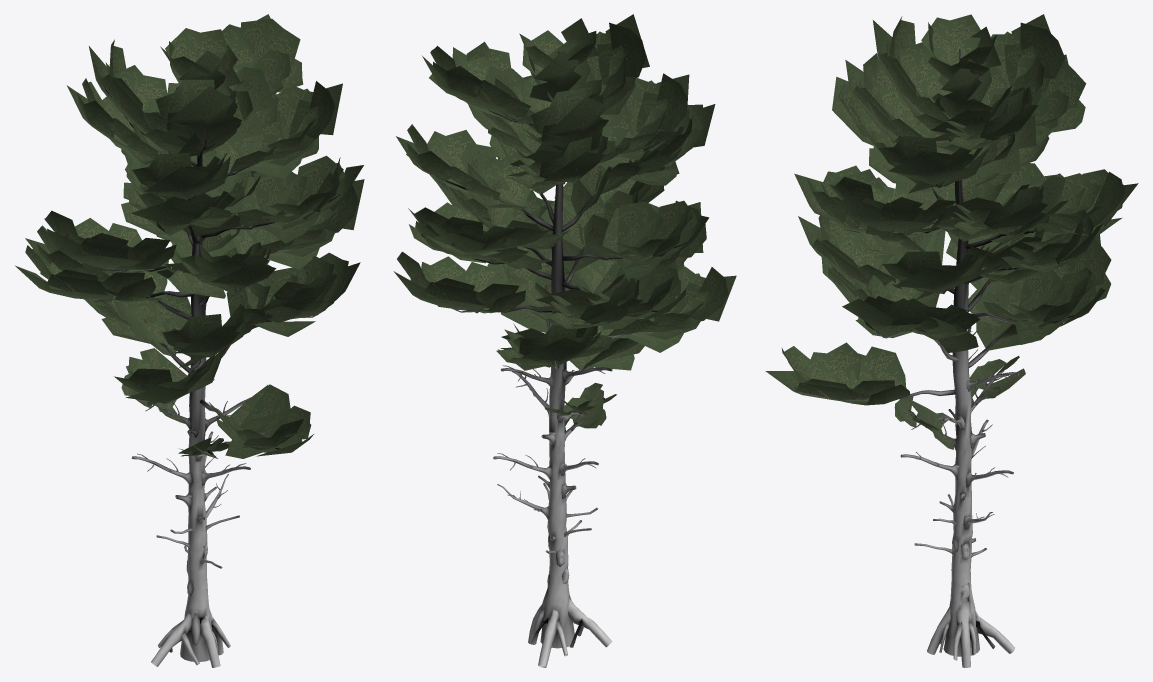
File: PW_Tree_Pine_03 Hero.fbx
The picture shows the model from 3 angles, left to right: view 1: azimuth 30°, elevation 25°; view 2: azimuth 150°, elevation 25°; view 3: azimuth 270°, elevation 25°; orthographic projection.
Parts seen in each view (by area): view 1: PW_Tree_Hero_Pine_03_LOD0; view 2: PW_Tree_Hero_Pine_03_LOD0; view 3: PW_Tree_Hero_Pine_03_LOD0.
Boxes of the visible parts, x1,y1,x2,y2 form: PW_Tree_Hero_Pine_03_LOD0: [15, 14, 364, 667]; PW_Tree_Hero_Pine_03_LOD0: [393, 14, 736, 667]; PW_Tree_Hero_Pine_03_LOD0: [765, 14, 1138, 667].
Size of what is drawn, in the model's own units: 733 by 1435 by 769.
